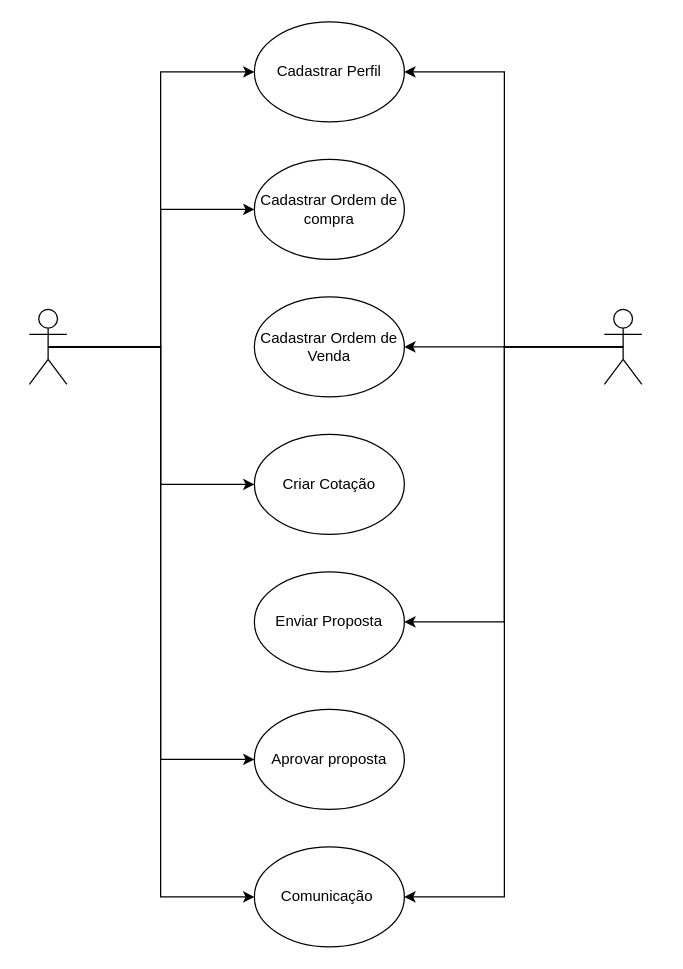
Some shapes in this 683 by 969 pixel diagram are drawn without their labels. The shapes that lost their labels are listed below. From the top down, each one's centre as x and y in pixels, then its label:
the point at 47,346: Hospital
the point at 622,346: Fornecedor
